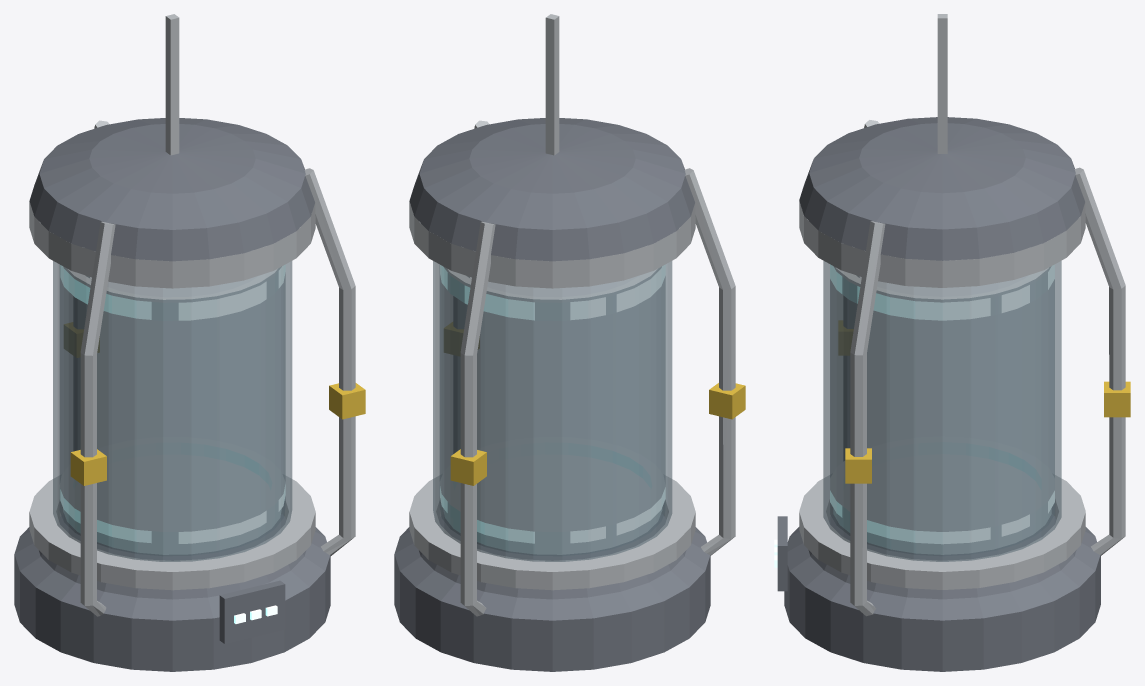
The model's file is ufo-crash-site-and-recovery-facility-specimen-tank-537201bc__17360.glb.
3 views of the same model, side by side, from view 1: azimuth 30°, elevation 25°; view 2: azimuth 150°, elevation 25°; view 3: azimuth 270°, elevation 25° (orthographic).
Parts seen in each view (by area): view 1: specimen-tank; view 2: specimen-tank; view 3: specimen-tank.
Boxes of the visible parts, <box> form: specimen-tank: <box>14,14,365,671</box>; specimen-tank: <box>394,14,745,671</box>; specimen-tank: <box>774,14,1130,671</box>.
Bounding box in the file's own units: 1.98 × 3.9 × 2.14.
